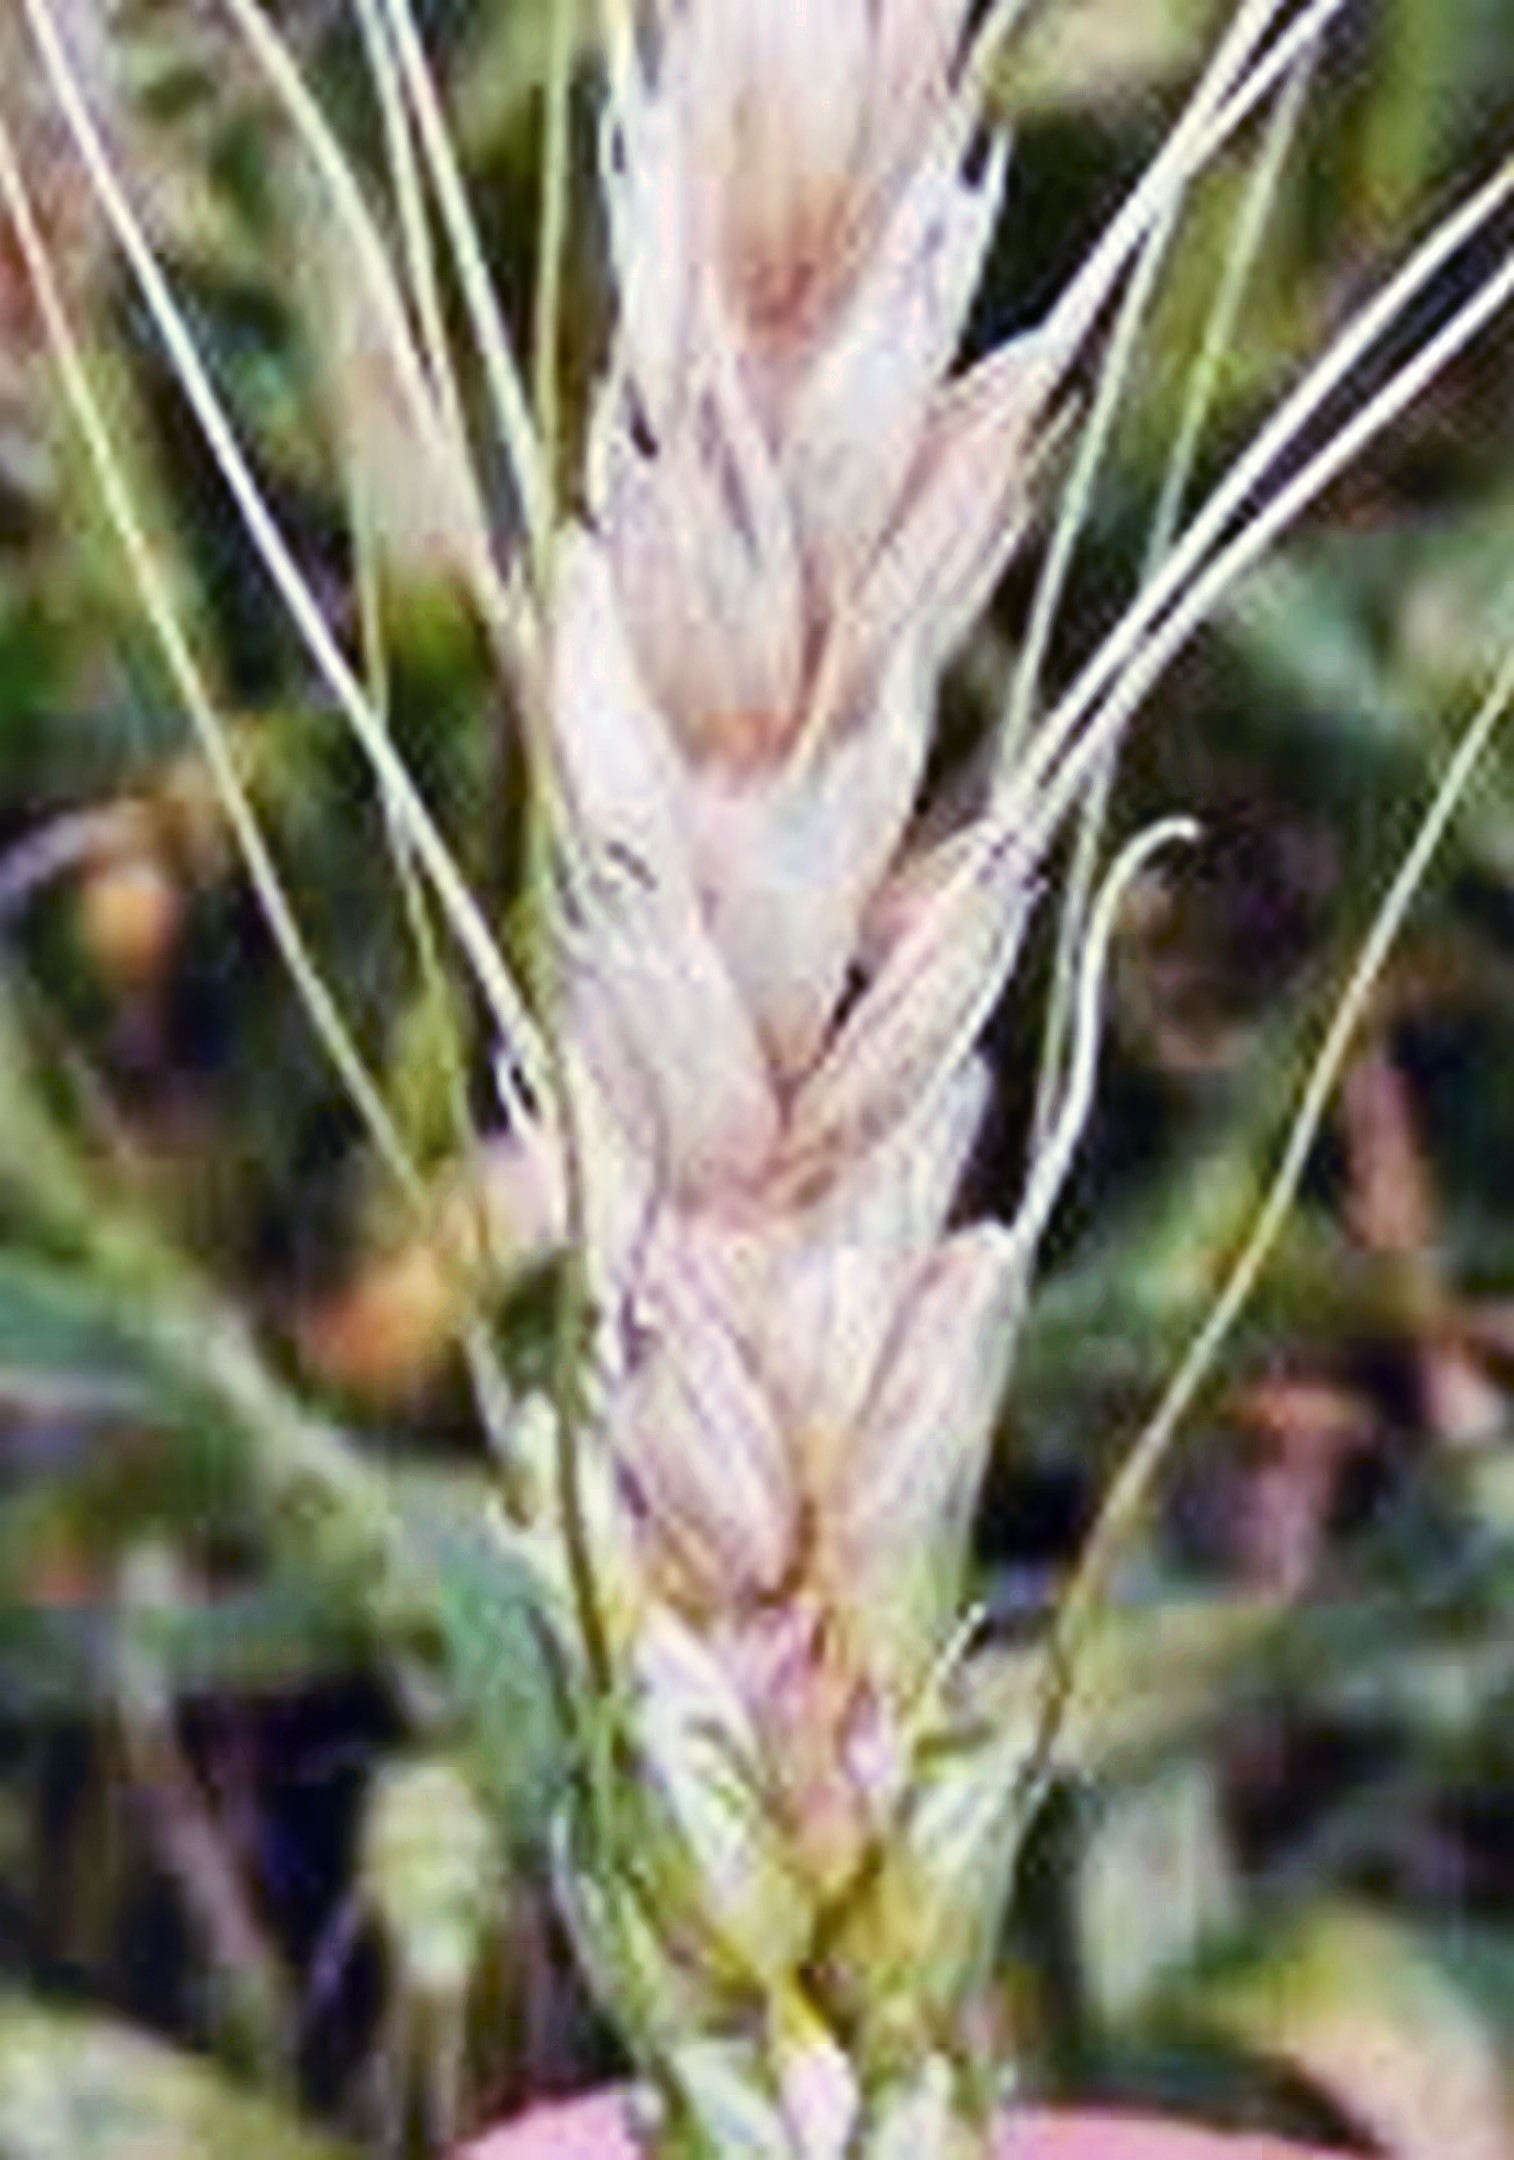Wheat scab: (481, 61, 1126, 2124)
